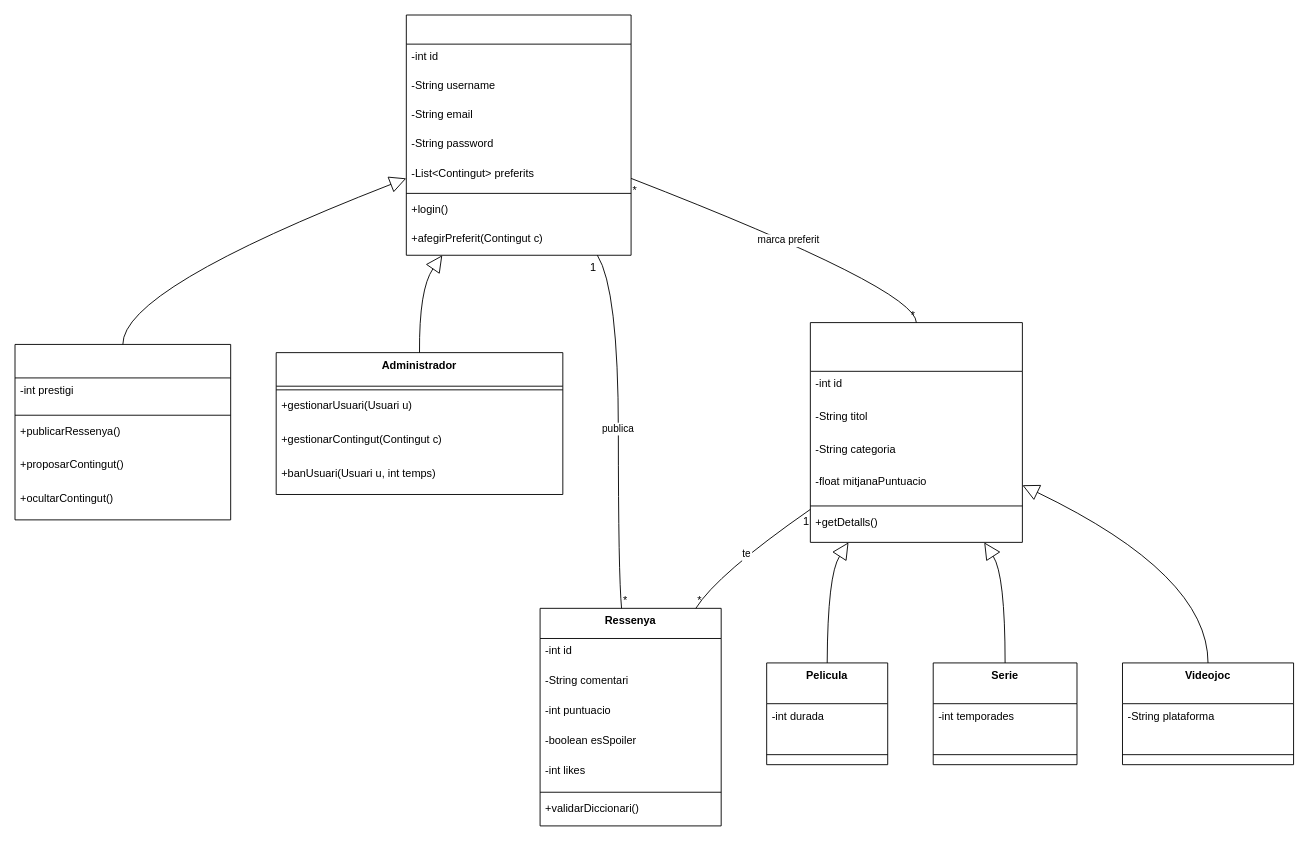
The diagram is 1309 pixels wide and 841 high, and some of its shapes have lost their labels. The box of each missing label's shape, as (x1, y1, x2, y2) in pixels:
Contingut: (809, 322, 1022, 542)
Usuari: (405, 14, 631, 255)
UsuariEstandard: (14, 344, 231, 520)
